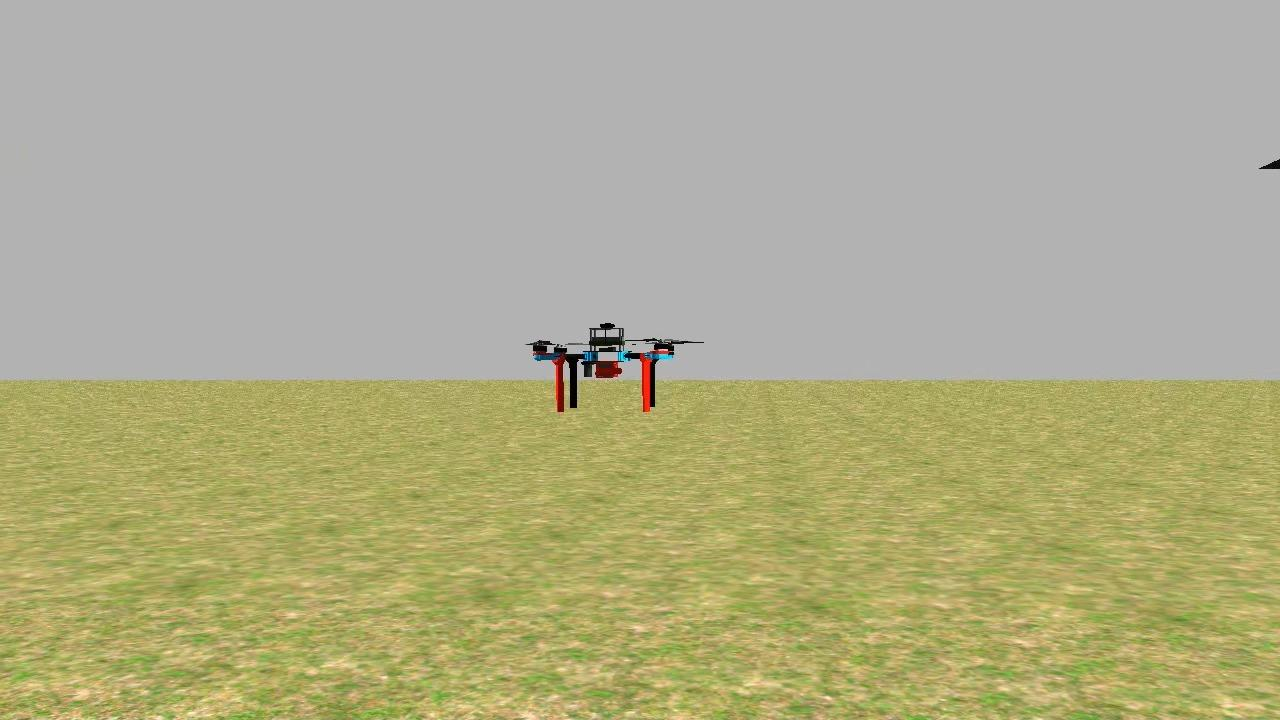UAV: (527, 301, 696, 430)
